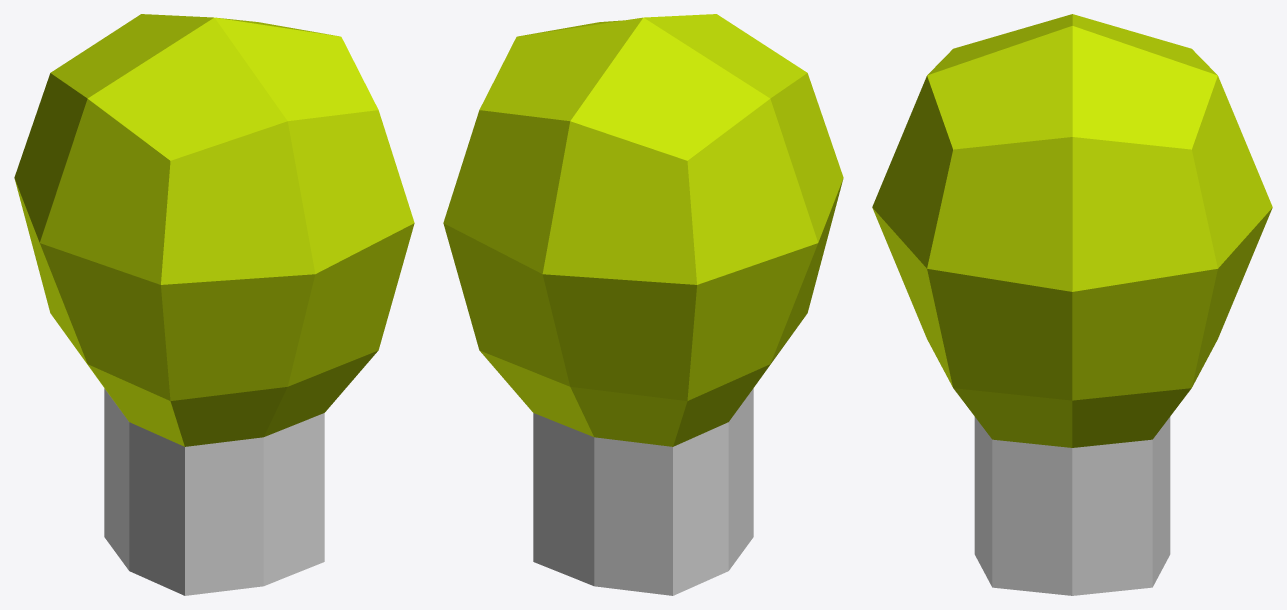
The model's file is lampada.fbx.
3 renders of one model, left to right at view 1: azimuth 30°, elevation 25°; view 2: azimuth 150°, elevation 25°; view 3: azimuth 270°, elevation 25°, orthographic.
Parts seen in each view (by area): view 1: Cube; view 2: Cube; view 3: Cube.
Part boxes in pixels (bbox=[...]): Cube: bbox=[14, 14, 414, 595]; Cube: bbox=[443, 14, 843, 595]; Cube: bbox=[872, 14, 1272, 595].
Bounding box in the file's own units: 168 × 245 × 168.
